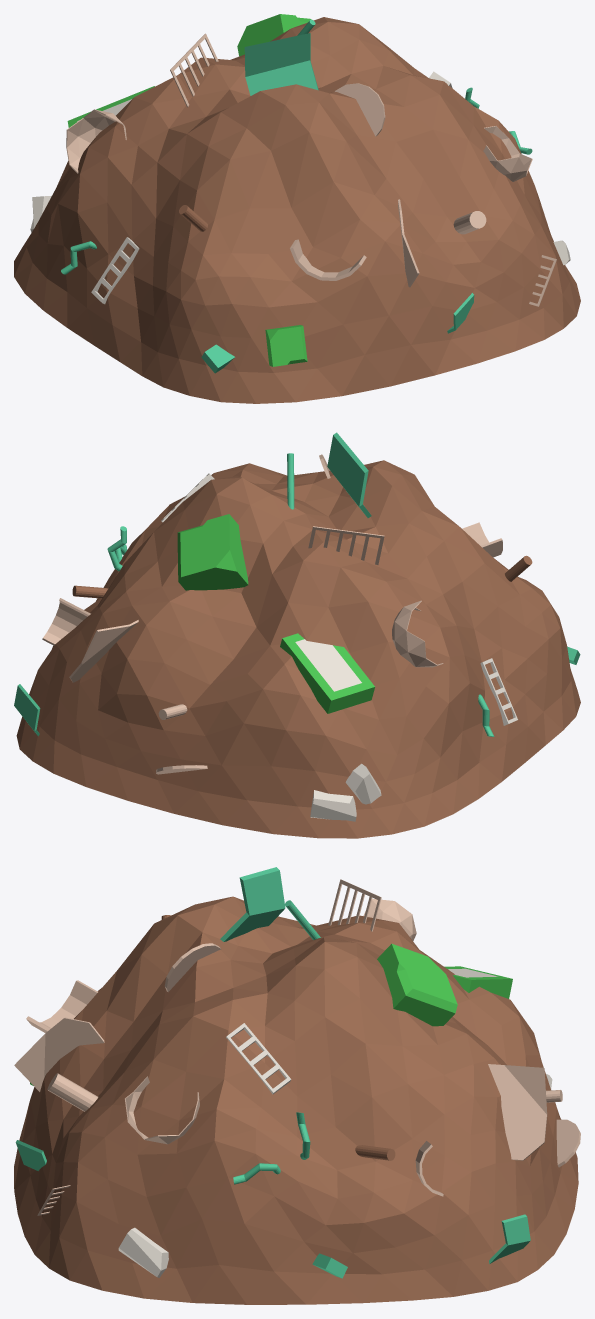
File: Pisces_Junk_Pile_Large.fbx
3 views of the same model, one above another, from view 1: azimuth 30°, elevation 25°; view 2: azimuth 150°, elevation 25°; view 3: azimuth 270°, elevation 25° (orthographic). The views are drawn at different scales.
Visible parts, largest first — view 1: Junk Pile Large; view 2: Junk Pile Large; view 3: Junk Pile Large.
Boxes of the visible parts, x1=… form: Junk Pile Large: x1=14, y1=14, x2=580, y2=403; Junk Pile Large: x1=14, y1=432, x2=580, y2=838; Junk Pile Large: x1=14, y1=867, x2=580, y2=1304.
Size of the model in its own units: 469 by 277 by 473.
